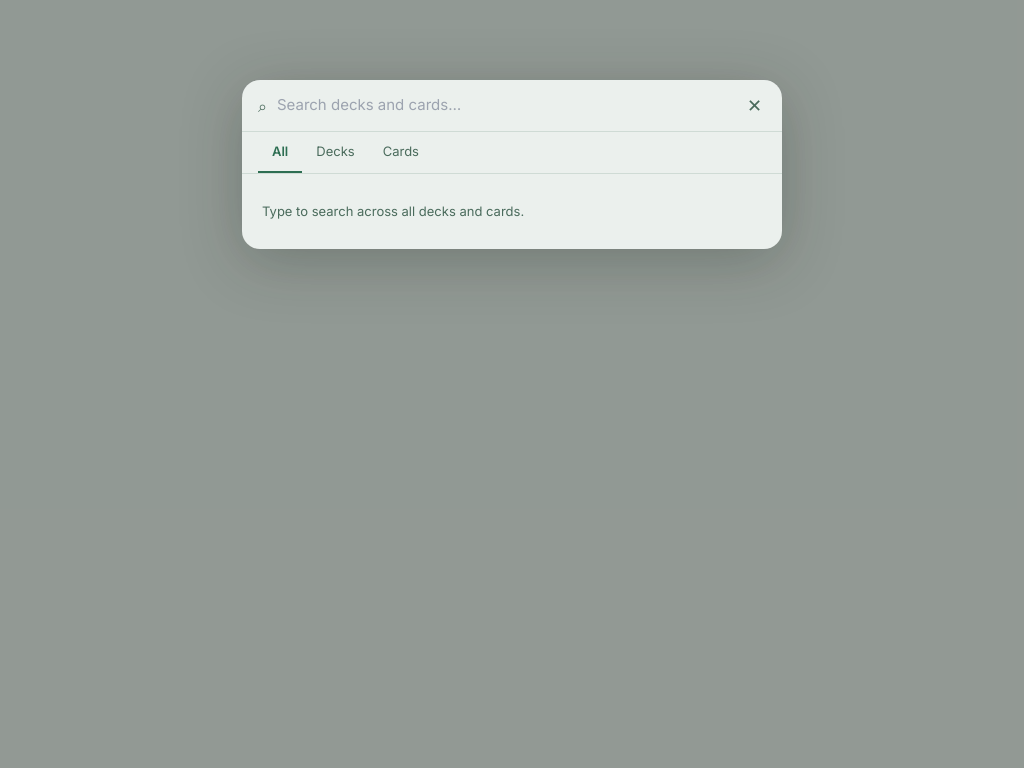
Test case: SearchModal › shows no-results message for unmatched query
Type "xyznotfound" into the field with test id "search-input" at (510, 106), box [277,94,743,117]
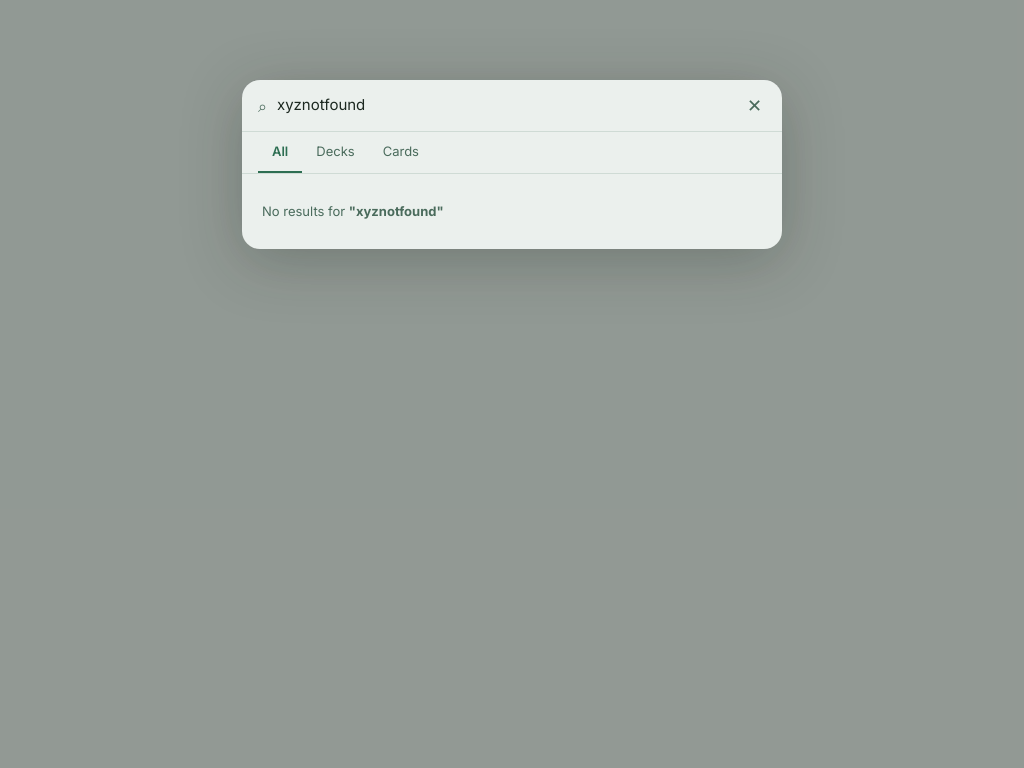
Now the text "No results for \"xyznotfound\"" is shown, box [262,202,444,218]
